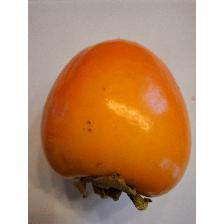Kaki: (33, 31, 194, 216)
